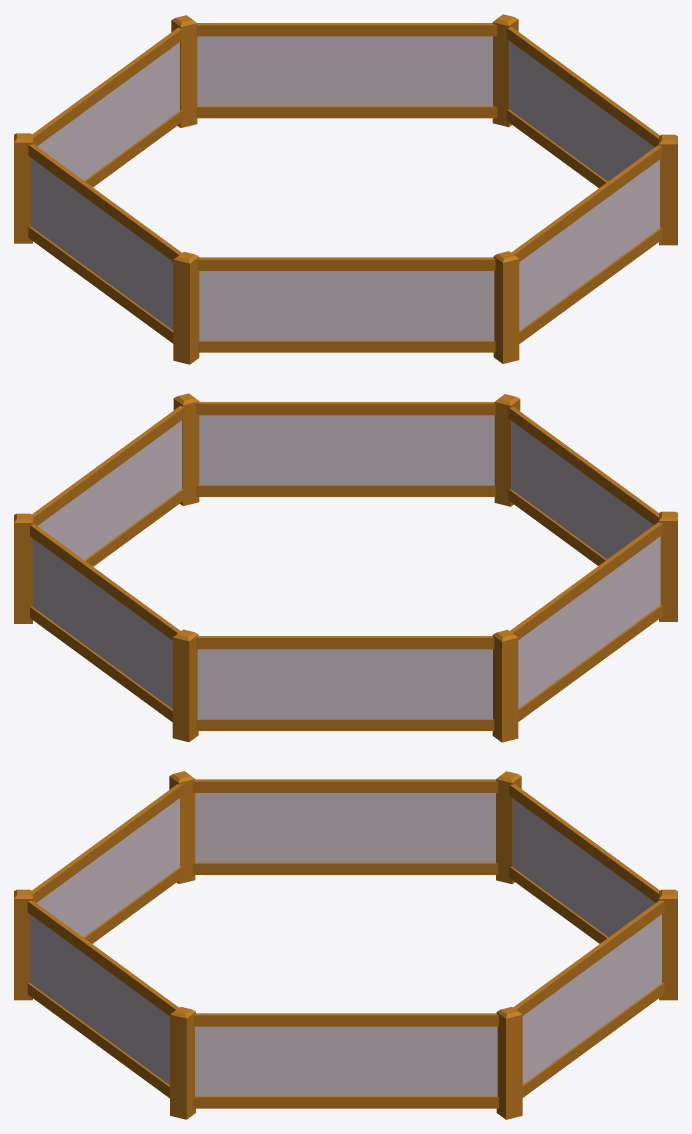
File: FIELD 1.fbx
3 renders of one model, top to bottom at view 1: azimuth 30°, elevation 25°; view 2: azimuth 150°, elevation 25°; view 3: azimuth 270°, elevation 25°, orthographic.
Parts seen in each view (by area): view 1: Cube.006, Cube.007, Cube.005, Cube.003, Cube.004, Cube.002, Cube.001, Cube.012, Cube.011, Cube.009, Cube.008, Cube.010; view 2: Cube.003, Cube.002, Cube.005, Cube.006, Cube.004, Cube.007, Cube.011, Cube.008, Cube.010, Cube.012, Cube.001, Cube.009; view 3: Cube.004, Cube.005, Cube.003, Cube.006, Cube.007, Cube.002, Cube.010, Cube.009, Cube.012, Cube.008, Cube.011, Cube.001.
Boxes of the visible parts, x1,y1,x2,y2 form: Cube.006: [196, 23, 497, 118]; Cube.007: [198, 257, 495, 352]; Cube.005: [28, 144, 181, 343]; Cube.003: [511, 144, 662, 343]; Cube.004: [506, 26, 659, 187]; Cube.002: [32, 27, 182, 187]; Cube.001: [173, 251, 199, 364]; Cube.012: [493, 251, 519, 363]; Cube.011: [171, 15, 197, 127]; Cube.009: [659, 134, 677, 245]; Cube.008: [14, 133, 32, 243]; Cube.010: [492, 14, 518, 127]; Cube.003: [196, 402, 495, 496]; Cube.002: [196, 636, 494, 730]; Cube.005: [510, 522, 663, 721]; Cube.006: [30, 523, 180, 721]; Cube.004: [32, 405, 184, 566]; Cube.007: [508, 406, 658, 565]; Cube.011: [172, 629, 198, 741]; Cube.008: [492, 630, 518, 742]; Cube.010: [14, 513, 32, 623]; Cube.012: [494, 394, 520, 506]; Cube.001: [659, 511, 677, 621]; Cube.009: [173, 393, 199, 505]; Cube.004: [193, 1013, 498, 1108]; Cube.005: [192, 779, 498, 874]; Cube.003: [27, 901, 178, 1098]; Cube.006: [513, 901, 664, 1097]; Cube.007: [32, 784, 183, 943]; Cube.002: [509, 784, 659, 943]; Cube.010: [496, 1007, 522, 1119]; Cube.009: [170, 1006, 195, 1119]; Cube.012: [14, 889, 32, 1000]; Cube.008: [496, 771, 521, 884]; Cube.011: [659, 889, 677, 1000]; Cube.001: [169, 771, 195, 883].
Bounding box in the file's own units: 59.21 × 67.36 × 11.63.
